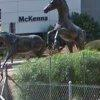Statue: (38, 0, 90, 58)
